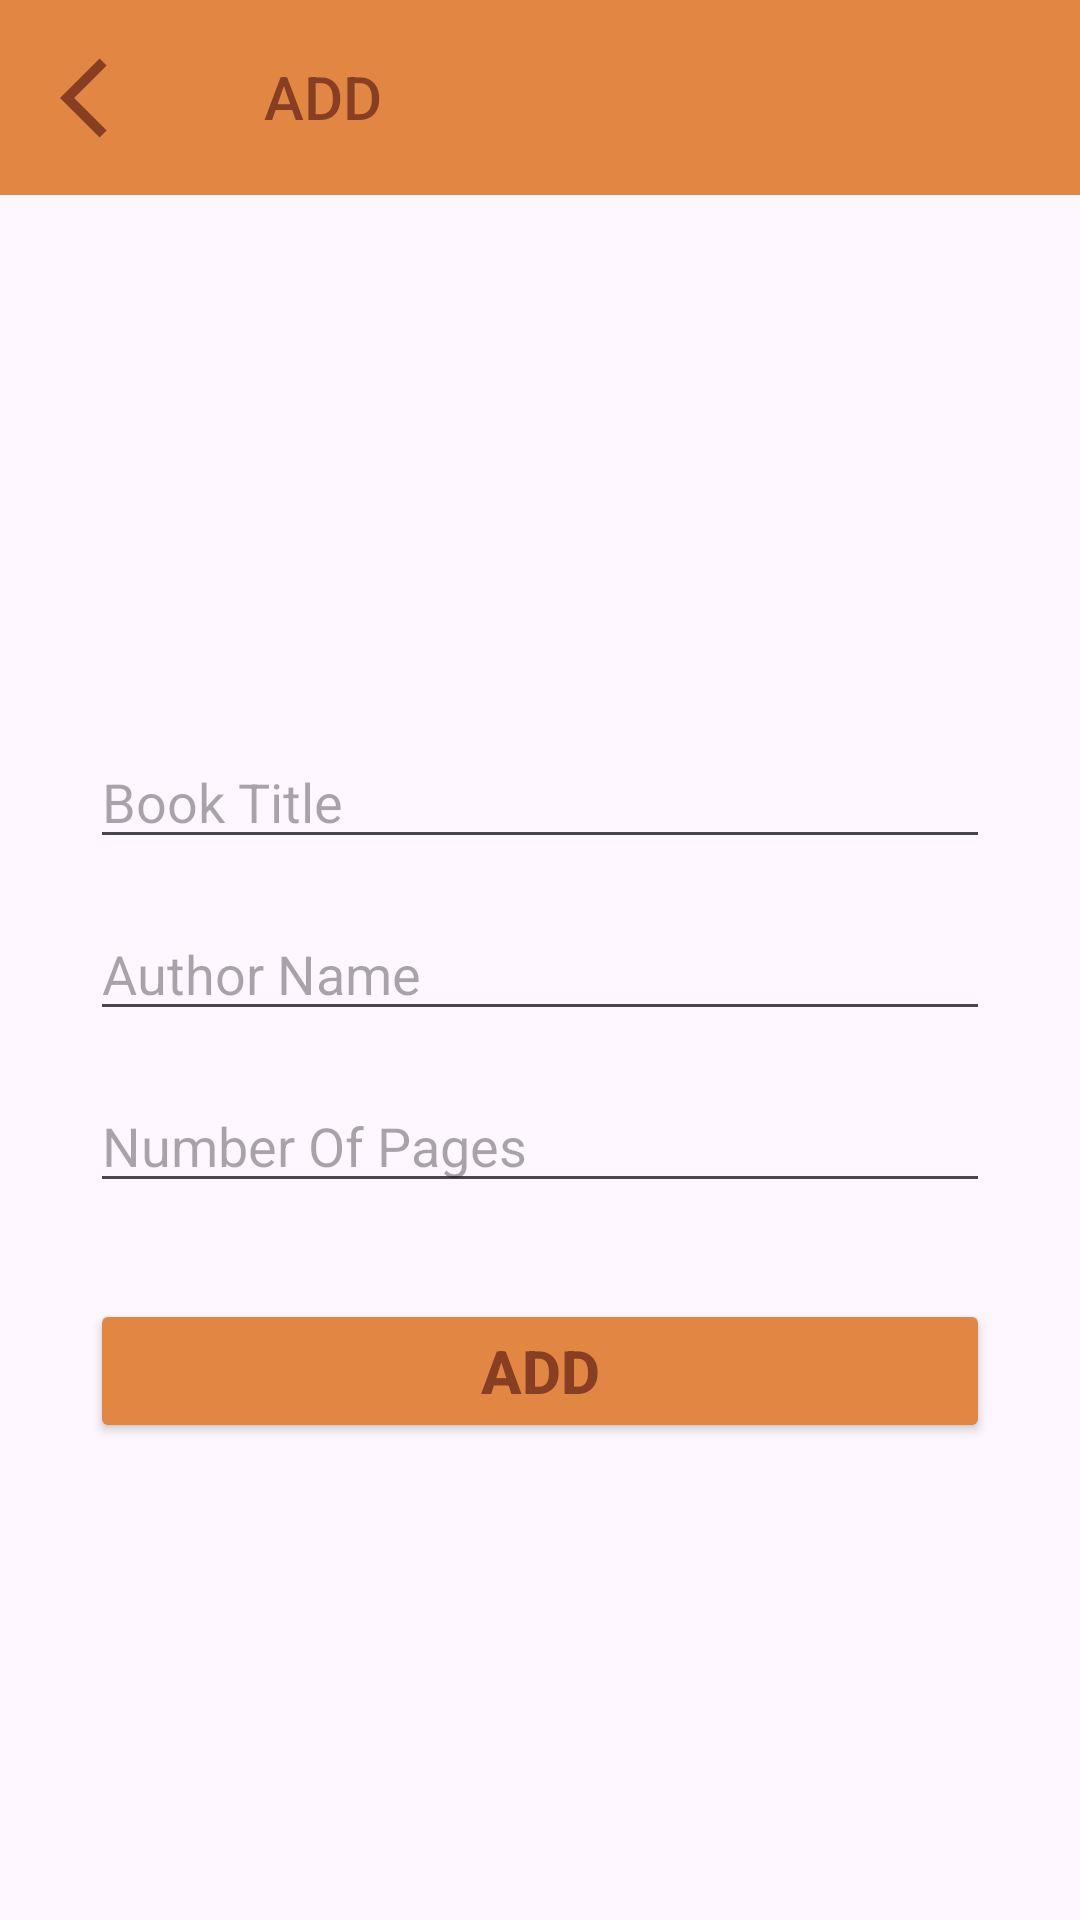

Locate icon controls on the screen. Image size 1080×1920, boxes as bbox(x1, y1, x2, y2).
arrow back: bbox(60, 59, 107, 137)
